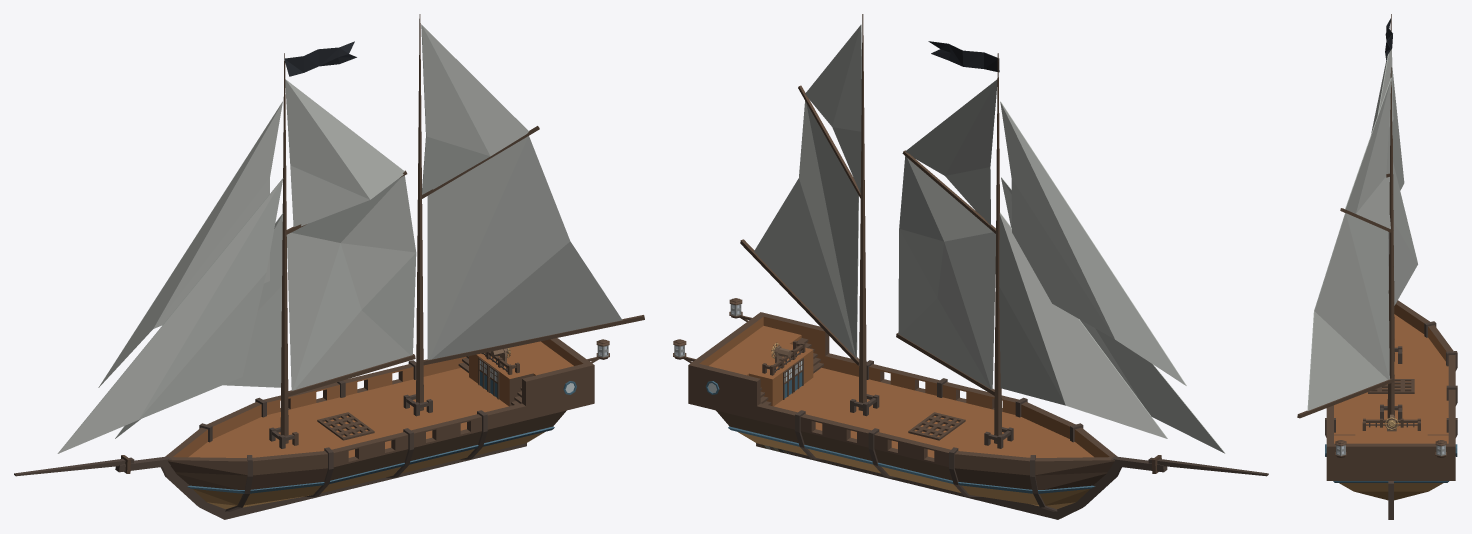
File: calmSpirit.obj
The picture shows the model from 3 angles, left to right: view 1: azimuth 30°, elevation 25°; view 2: azimuth 150°, elevation 25°; view 3: azimuth 270°, elevation 25°; orthographic projection. The views are drawn at different scales.
Parts seen in each view (by area): view 1: Sail, Body, Mast; view 2: Sail, Body, Mast; view 3: Sail, Body, Mast.
Boxes of the visible parts, bbox=[...] form: Sail: bbox=[57, 24, 622, 453]; Body: bbox=[14, 338, 609, 519]; Mast: bbox=[280, 14, 644, 443]; Sail: bbox=[754, 24, 1225, 453]; Body: bbox=[673, 298, 1268, 519]; Mast: bbox=[740, 14, 1002, 443]; Sail: bbox=[1307, 18, 1417, 410]; Body: bbox=[1325, 300, 1457, 519]; Mast: bbox=[1297, 14, 1394, 418].
Bounding box in the file's own units: 517 × 390 × 139.
Materials: 1 (1 with a texture image).
